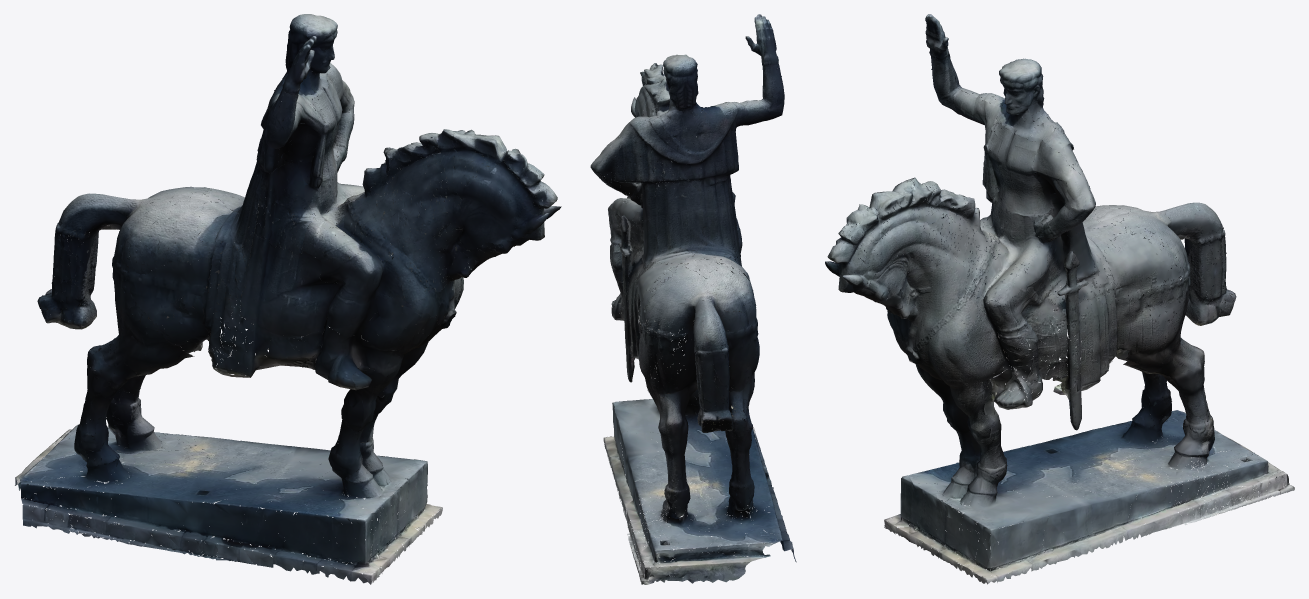
The model's file is gorgasali.glb.
3 views of the same model, side by side, from view 1: azimuth 30°, elevation 25°; view 2: azimuth 150°, elevation 25°; view 3: azimuth 270°, elevation 25° (orthographic). The views are drawn at different scales.
Visible parts, largest first — view 1: Model_material0_0.001; view 2: Model_material0_0.001; view 3: Model_material0_0.001.
Part boxes in pixels (bbox=[...]): Model_material0_0.001: bbox=[15, 14, 561, 584]; Model_material0_0.001: bbox=[590, 14, 796, 584]; Model_material0_0.001: bbox=[825, 14, 1294, 584].
Size of the model in its own units: 0.7143 by 1 by 0.8509.
1 material, 1 textured.
